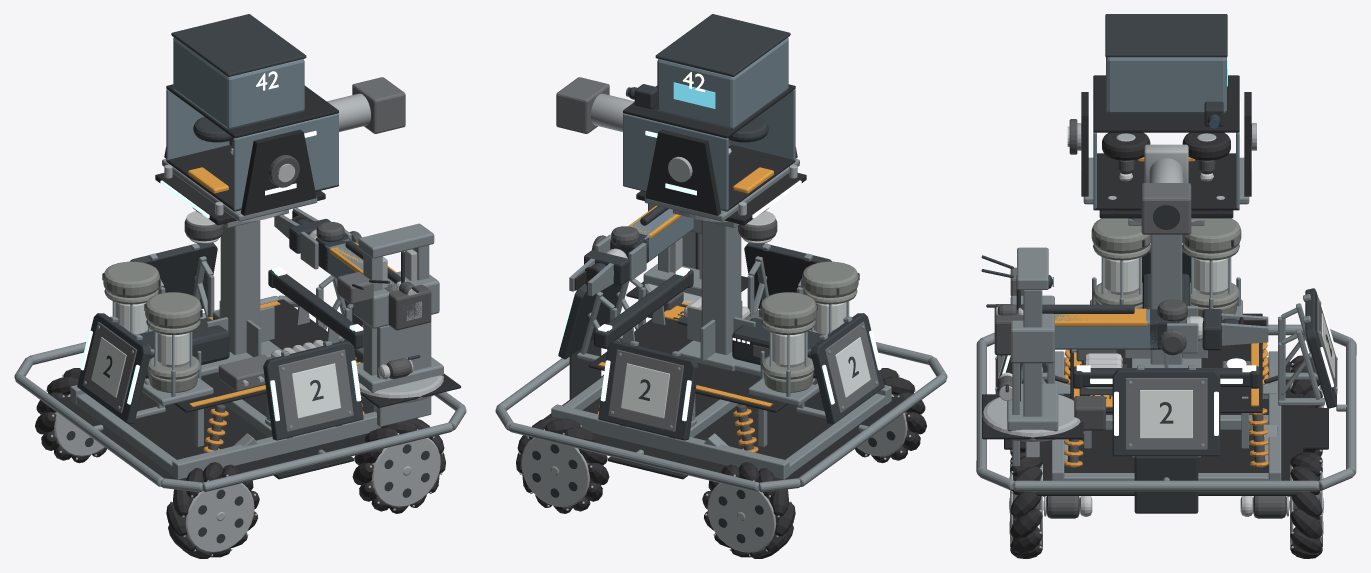
Rendered from robot-2711-spec2027.glb.
3 renders of one model, left to right at view 1: azimuth 30°, elevation 25°; view 2: azimuth 150°, elevation 25°; view 3: azimuth 270°, elevation 25°, orthographic. The views are drawn at different scales.
Visible parts, largest first — view 1: Chassis_RobotMatteAluminum, GunPitch_TeamPrimaryShell, Chassis_CarbonPlate, GunPitch_RobotMatteGraphite, ArmLift_RobotMatteAluminum, ArmSlew_RobotMatteAluminum, LauncherModule_CarbonPlate, GunPitch_CarbonPlate, Chassis_RobotMatteGraphite, Wheel_0_MachinedAlloy, Wheel_2_MachinedAlloy, CarriedUnit_0_ProtectiveMetal (+32 smaller); view 2: Chassis_RobotMatteAluminum, GunPitch_TeamPrimaryShell, Chassis_CarbonPlate, GunPitch_RobotMatteGraphite, Chassis_RobotMatteGraphite, LauncherModule_CarbonPlate, Wheel_1_MachinedAlloy, Wheel_3_MachinedAlloy, GunPitch_CarbonPlate, CarriedUnit_1_ProtectiveMetal, ArmorModuleBody.001, ArmorHitFace.001 (+29 smaller); view 3: Chassis_RobotMatteAluminum, Chassis_CarbonPlate, GunPitch_CarbonPlate, GunPitch_TeamPrimaryShell, GunPitch_RobotMatteGraphite, Chassis_RobotMatteGraphite, ArmSlew_RobotMatteAluminum, ArmorHitFace, ArmorModuleBody, Chassis_MotorHousing, CarriedUnit_1_ProtectiveMetal, ArmLift_RobotMatteAluminum (+32 smaller).
Part boxes in pixels (left/top/right/bottom): Chassis_RobotMatteAluminum: left=14, top=209, right=466, bottom=492; GunPitch_TeamPrimaryShell: left=166, top=37, right=338, bottom=210; Chassis_CarbonPlate: left=54, top=299, right=460, bottom=480; GunPitch_RobotMatteGraphite: left=171, top=14, right=306, bottom=142; ArmLift_RobotMatteAluminum: left=353, top=271, right=439, bottom=426; ArmSlew_RobotMatteAluminum: left=356, top=223, right=443, bottom=392; LauncherModule_CarbonPlate: left=164, top=129, right=316, bottom=215; GunPitch_CarbonPlate: left=166, top=84, right=338, bottom=211; Chassis_RobotMatteGraphite: left=140, top=269, right=363, bottom=378; Wheel_0_MachinedAlloy: left=170, top=470, right=256, bottom=556; Wheel_2_MachinedAlloy: left=358, top=427, right=443, bottom=510; CarriedUnit_0_ProtectiveMetal: left=145, top=292, right=201, bottom=392; Chassis_RobotMatteAluminum: left=495, top=209, right=947, bottom=492; GunPitch_TeamPrimaryShell: left=623, top=37, right=795, bottom=210; Chassis_CarbonPlate: left=544, top=276, right=907, bottom=480; GunPitch_RobotMatteGraphite: left=628, top=14, right=790, bottom=142; Chassis_RobotMatteGraphite: left=569, top=269, right=821, bottom=399; LauncherModule_CarbonPlate: left=645, top=129, right=797, bottom=215; Wheel_1_MachinedAlloy: left=705, top=470, right=791, bottom=556; Wheel_3_MachinedAlloy: left=518, top=425, right=603, bottom=510; GunPitch_CarbonPlate: left=623, top=84, right=795, bottom=211; CarriedUnit_1_ProtectiveMetal: left=760, top=292, right=816, bottom=392; ArmorModuleBody.001: left=598, top=340, right=698, bottom=440; ArmorHitFace.001: left=608, top=349, right=683, bottom=431; Chassis_RobotMatteAluminum: left=976, top=218, right=1356, bottom=491; Chassis_CarbonPlate: left=982, top=313, right=1328, bottom=495; GunPitch_CarbonPlate: left=1093, top=75, right=1239, bottom=210; GunPitch_TeamPrimaryShell: left=1093, top=57, right=1239, bottom=209; GunPitch_RobotMatteGraphite: left=1105, top=14, right=1227, bottom=229; Chassis_RobotMatteGraphite: left=1043, top=273, right=1289, bottom=513; ArmSlew_RobotMatteAluminum: left=1007, top=247, right=1058, bottom=431; ArmorHitFace: left=1125, top=378, right=1207, bottom=449; ArmorModuleBody: left=1112, top=369, right=1220, bottom=456; Chassis_MotorHousing: left=1046, top=343, right=1286, bottom=518; CarriedUnit_1_ProtectiveMetal: left=1182, top=218, right=1241, bottom=317; ArmLift_RobotMatteAluminum: left=1010, top=295, right=1054, bottom=466.
Bounding box in the file's own units: 0.5985 × 0.817 × 0.5969.
